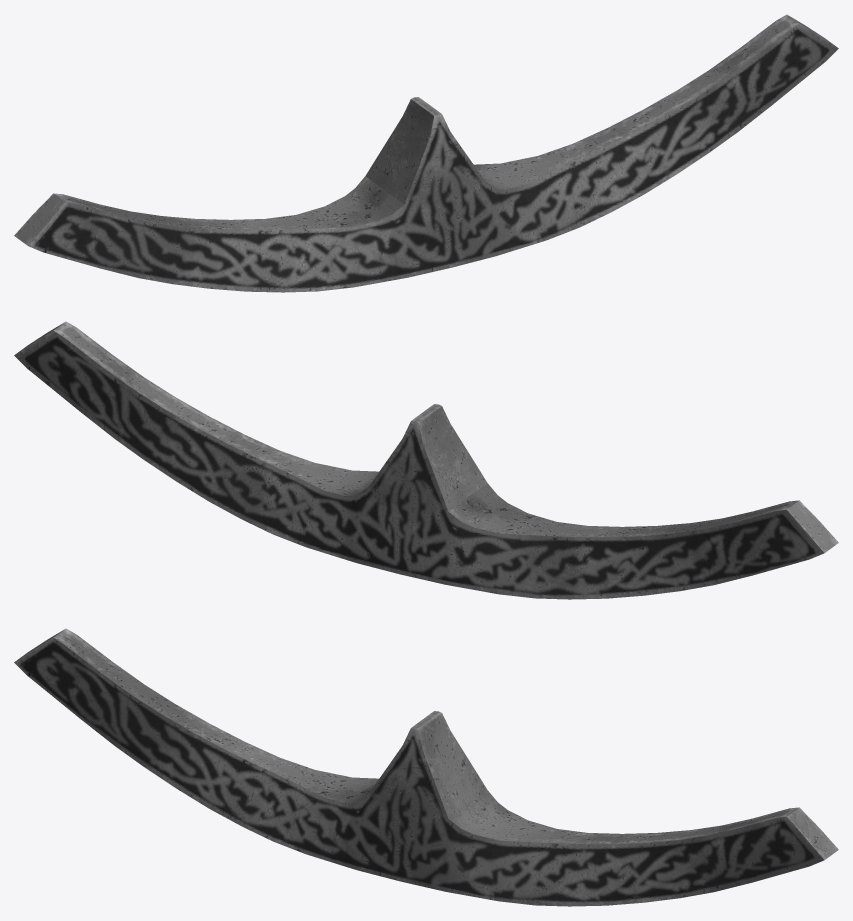
Rendered from wm_witch_king_sword_guard.fbx.
3 renders of one model, top to bottom at view 1: azimuth 30°, elevation 25°; view 2: azimuth 150°, elevation 25°; view 3: azimuth 330°, elevation 25°, orthographic.
Parts seen in each view (by area): view 1: wm_witch_king_sword_guard; view 2: wm_witch_king_sword_guard; view 3: wm_witch_king_sword_guard.
Part boxes in pixels (<box>): wm_witch_king_sword_guard: <box>14,14,838,292</box>; wm_witch_king_sword_guard: <box>14,321,838,599</box>; wm_witch_king_sword_guard: <box>14,628,838,906</box>.
Bounding box in the file's own units: 0.265 × 0.0298 × 0.0444.
